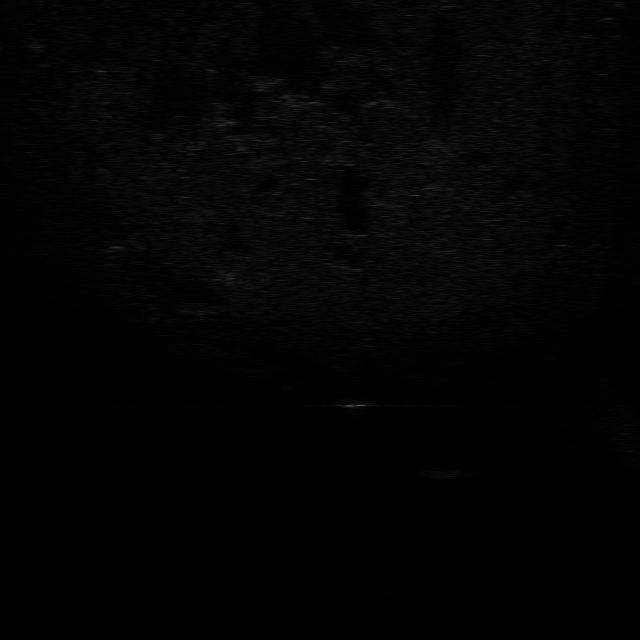cube: (411, 462, 461, 480)
square cage: (334, 397, 371, 413)
